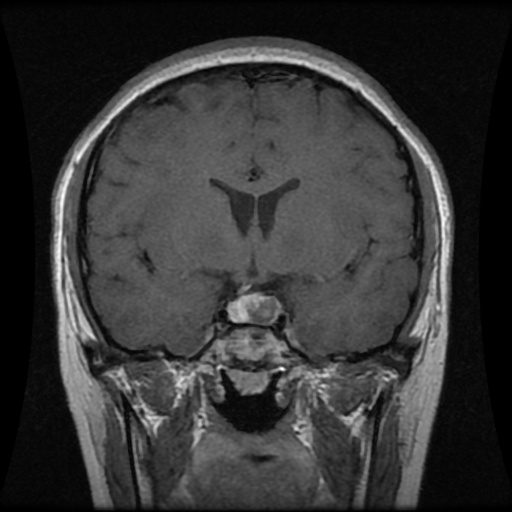pituitary: (229, 296, 277, 323)
